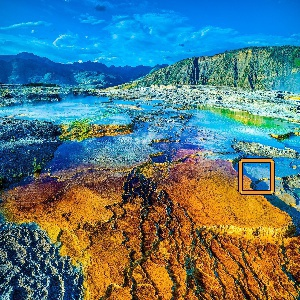square: (237, 156, 276, 197)
